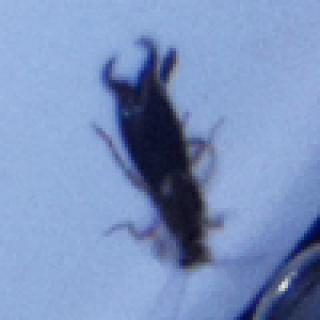earwig: (87, 31, 263, 312)
